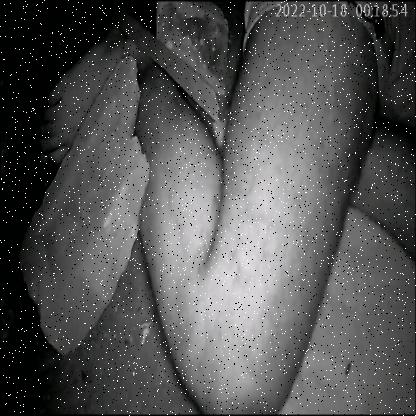leg: (36, 19, 384, 410)
